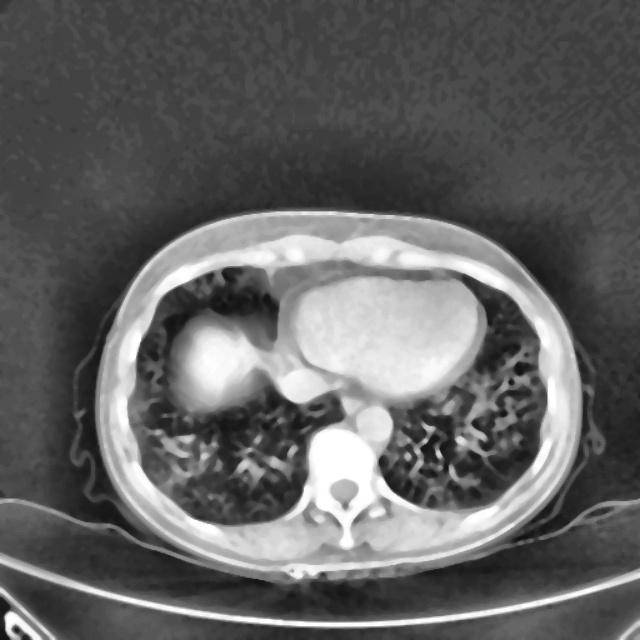covid: (89, 209, 585, 581)
